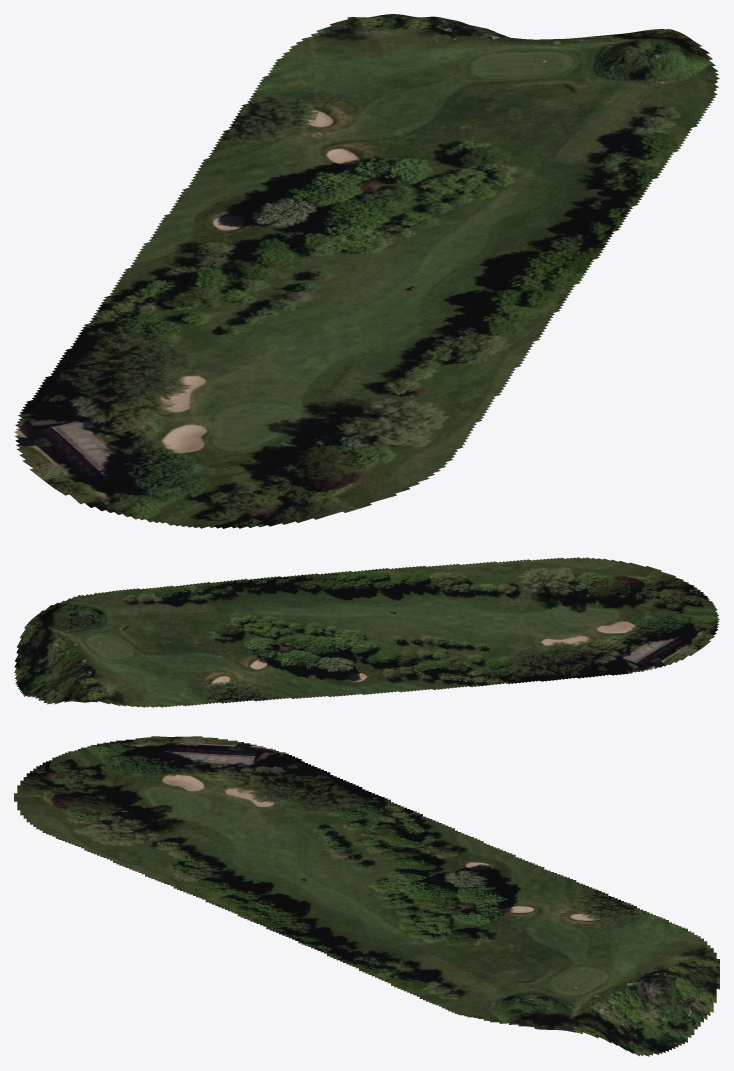
The model's file is stibb_2.glb.
3 renders of one model, top to bottom at view 1: azimuth 30°, elevation 25°; view 2: azimuth 150°, elevation 25°; view 3: azimuth 270°, elevation 25°, orthographic. The views are drawn at different scales.
Parts seen in each view (by area): view 1: ground; view 2: ground; view 3: ground.
Boxes of the visible parts, box(x1,y1,x2,y2) form: ground: box(14, 14, 719, 528); ground: box(14, 557, 719, 707); ground: box(14, 736, 719, 1056).
Bounding box in the file's own units: 233 × 17.24 × 221.
1 material, 1 textured.
